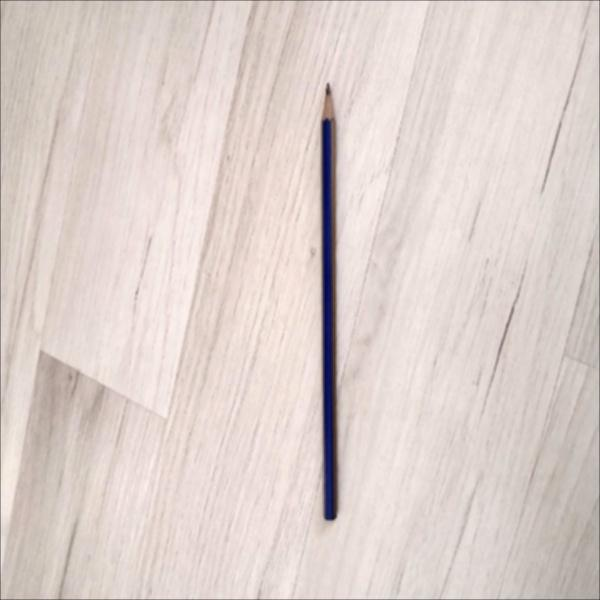pencil: (316, 79, 339, 526)
